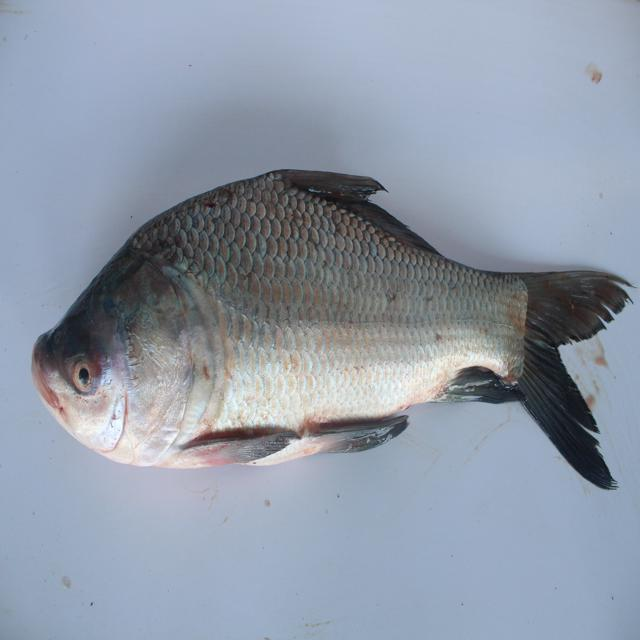Catla: (31, 154, 634, 497)
